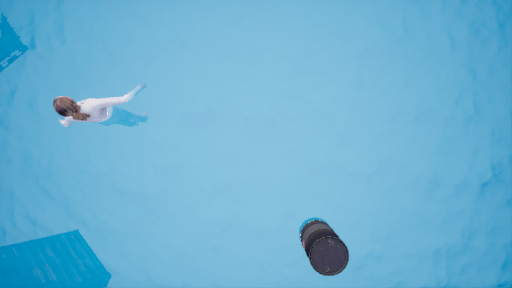person: (51, 78, 162, 142)
